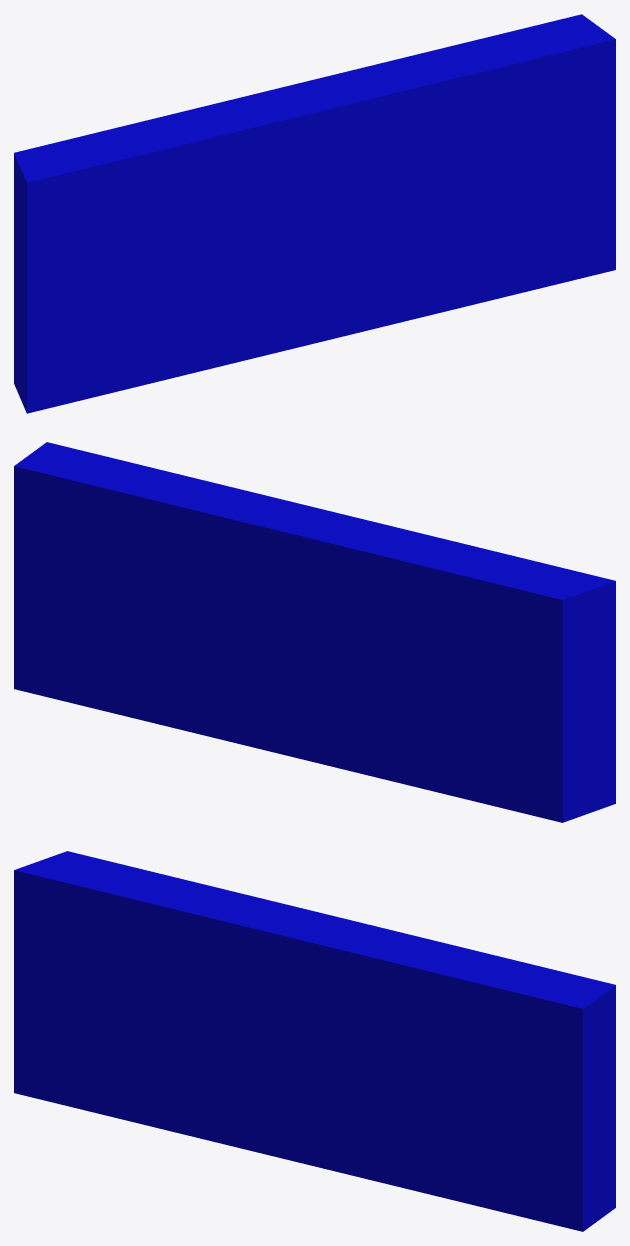
The model's file is simple_example_hole_part_24.obj.
3 views of the same model, one above another, from view 1: azimuth 30°, elevation 25°; view 2: azimuth 150°, elevation 25°; view 3: azimuth 330°, elevation 25° (orthographic). The views are drawn at different scales.
Bounding box in the file's own units: 26.71 × 10 × 2.68.
